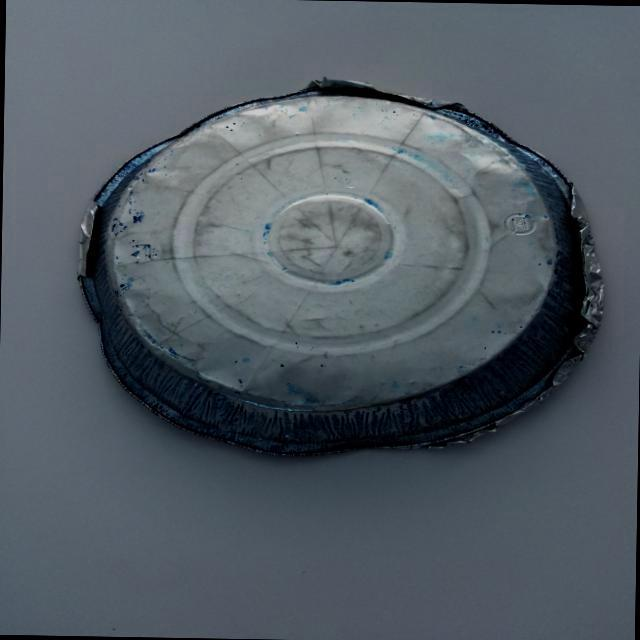metal: (66, 64, 632, 473)
